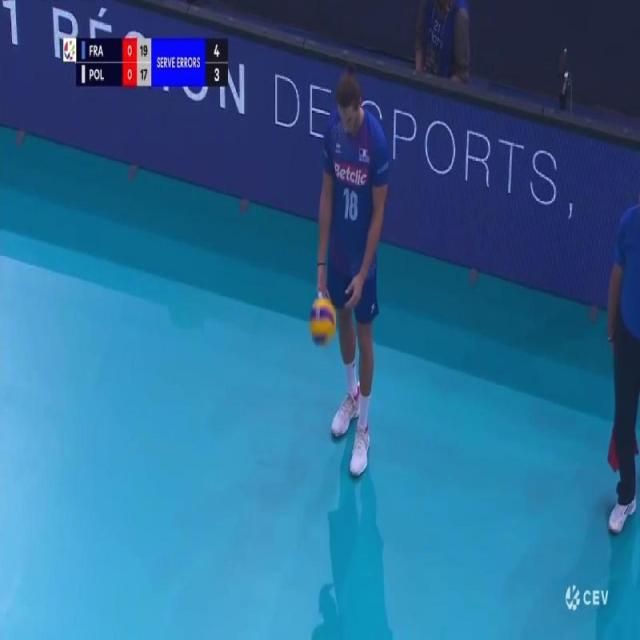volleyball: (309, 297, 335, 346)
